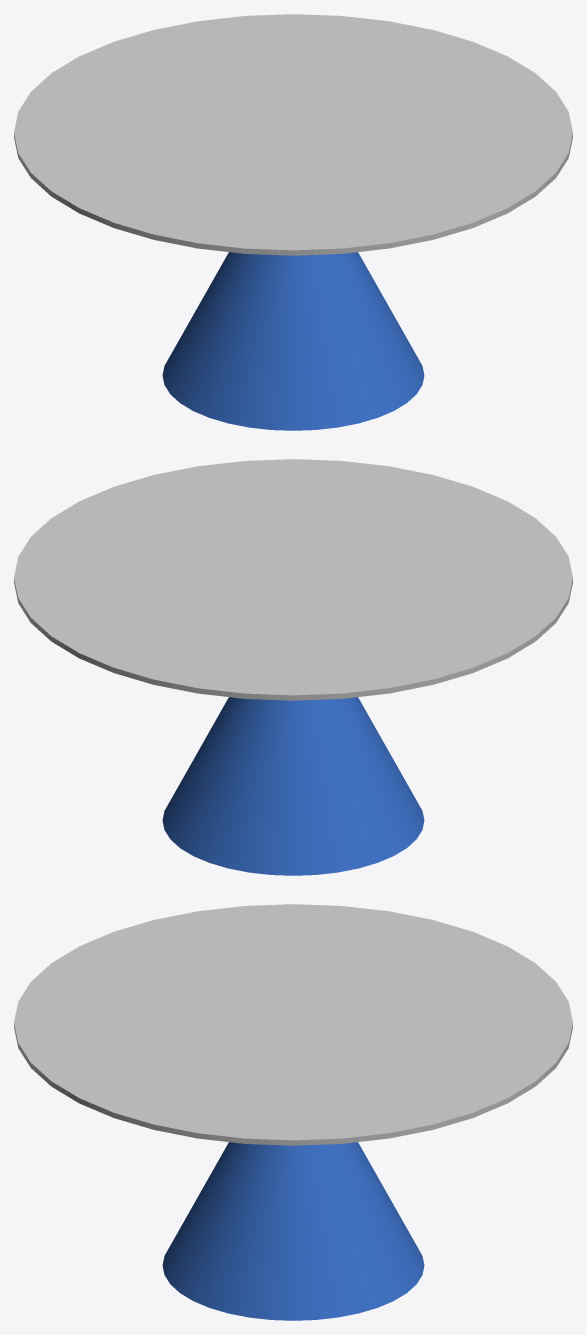
Rendered from 名称未設定 1.fbx.
The picture shows the model from 3 angles, top to bottom: view 1: azimuth 30°, elevation 25°; view 2: azimuth 150°, elevation 25°; view 3: azimuth 270°, elevation 25°; orthographic projection.
Visible parts, largest first — view 1: 円柱, 円錐; view 2: 円柱, 円錐; view 3: 円柱, 円錐.
Part boxes in pixels (x1,y1,x2,y2): 円柱: (14,14,572,255); 円錐: (162,252,424,430); 円柱: (14,459,572,700); 円錐: (162,697,424,875); 円柱: (14,904,572,1145); 円錐: (162,1142,424,1320).
Size of the model in its own units: 427 by 205 by 427.
